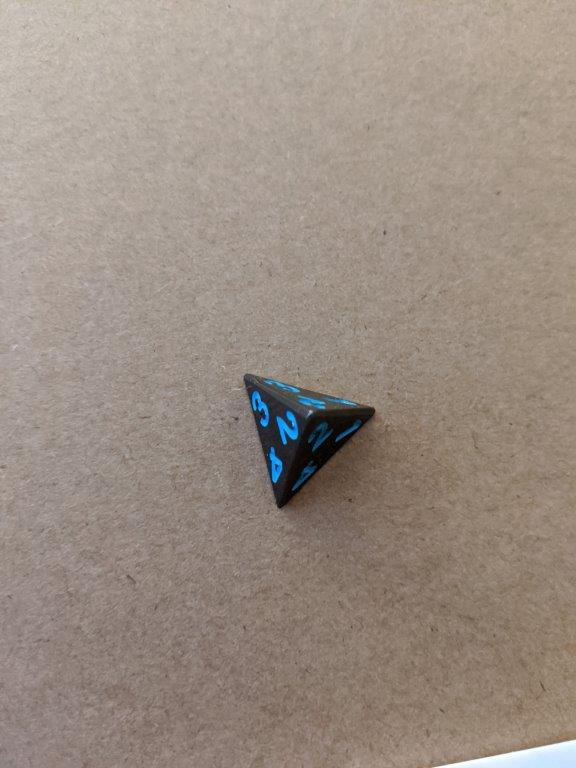d4-2: (240, 365, 381, 513)
